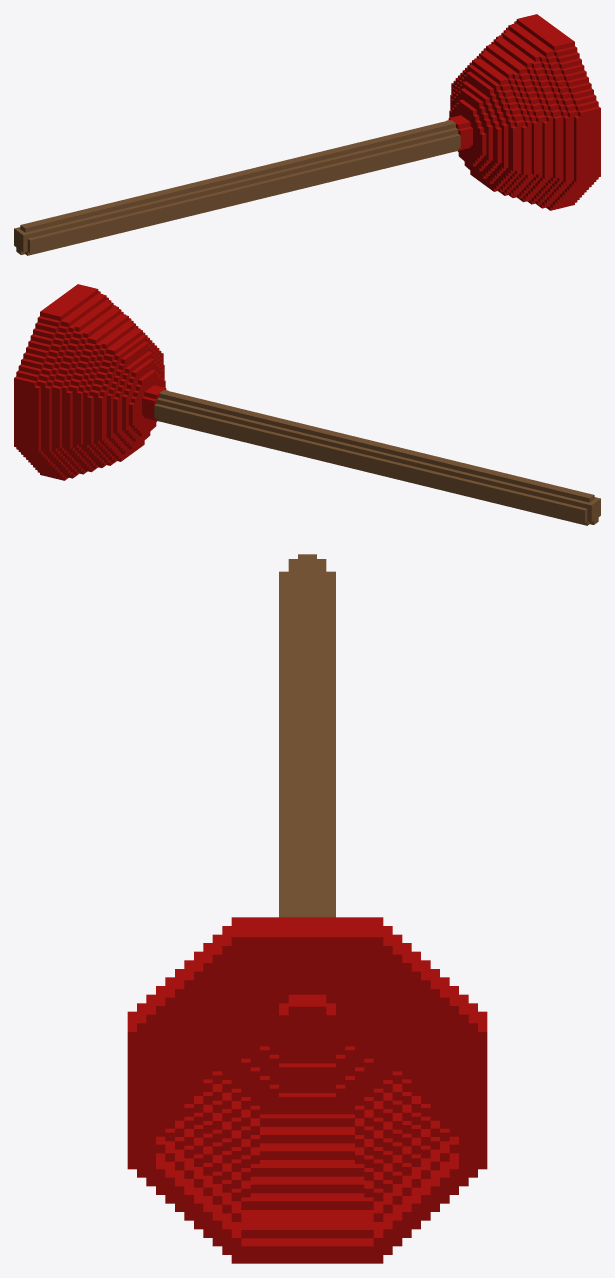
The model's file is plunger_toilet.glb.
3 renders of one model, top to bottom at view 1: azimuth 30°, elevation 25°; view 2: azimuth 150°, elevation 25°; view 3: azimuth 270°, elevation 25°, orthographic. The views are drawn at different scales.
Visible parts, largest first — view 1: plunger_toilet:compound; view 2: plunger_toilet:compound; view 3: plunger_toilet:compound.
Part boxes in pixels (x1,y1,x2,y2): plunger_toilet:compound: (14,14,600,255); plunger_toilet:compound: (14,284,600,525); plunger_toilet:compound: (127,554,487,1263).
Bounding box in the file's own units: 0.524 × 0.152 × 0.152.
